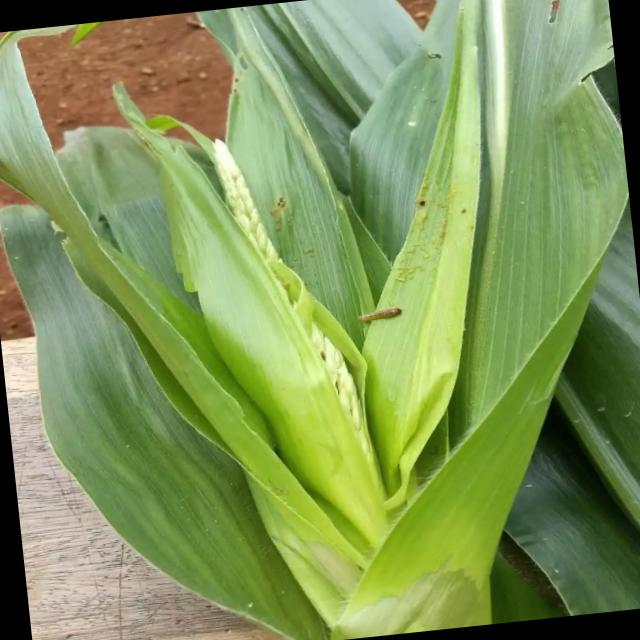pest: (348, 300, 411, 329)
